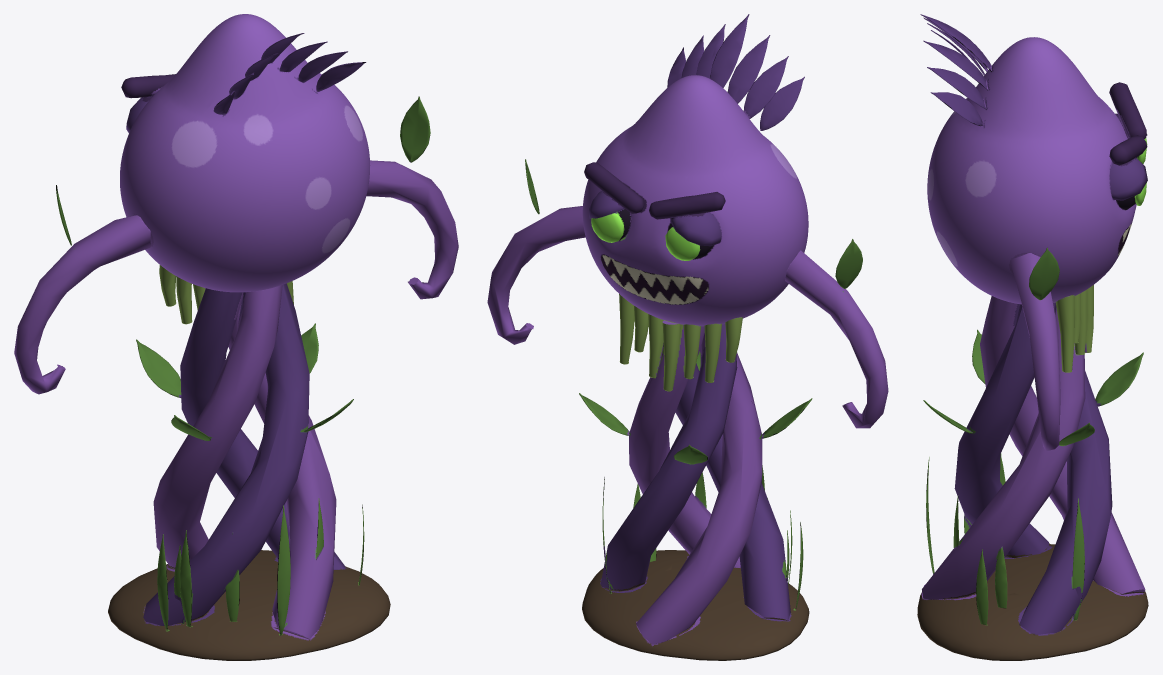
The model's file is SwampVine.fbx.
3 views of the same model, side by side, from view 1: azimuth 30°, elevation 25°; view 2: azimuth 150°, elevation 25°; view 3: azimuth 270°, elevation 25° (orthographic). The views are drawn at different scales.
Visible parts, largest first — view 1: SwampVine; view 2: SwampVine; view 3: SwampVine.
Part boxes in pixels (x1,y1,x2,y2): SwampVine: (14, 14, 458, 660); SwampVine: (487, 14, 888, 660); SwampVine: (917, 14, 1148, 660).
Size of the model in its own units: 3.38 by 4.61 by 1.61.
1 material, 1 textured.
